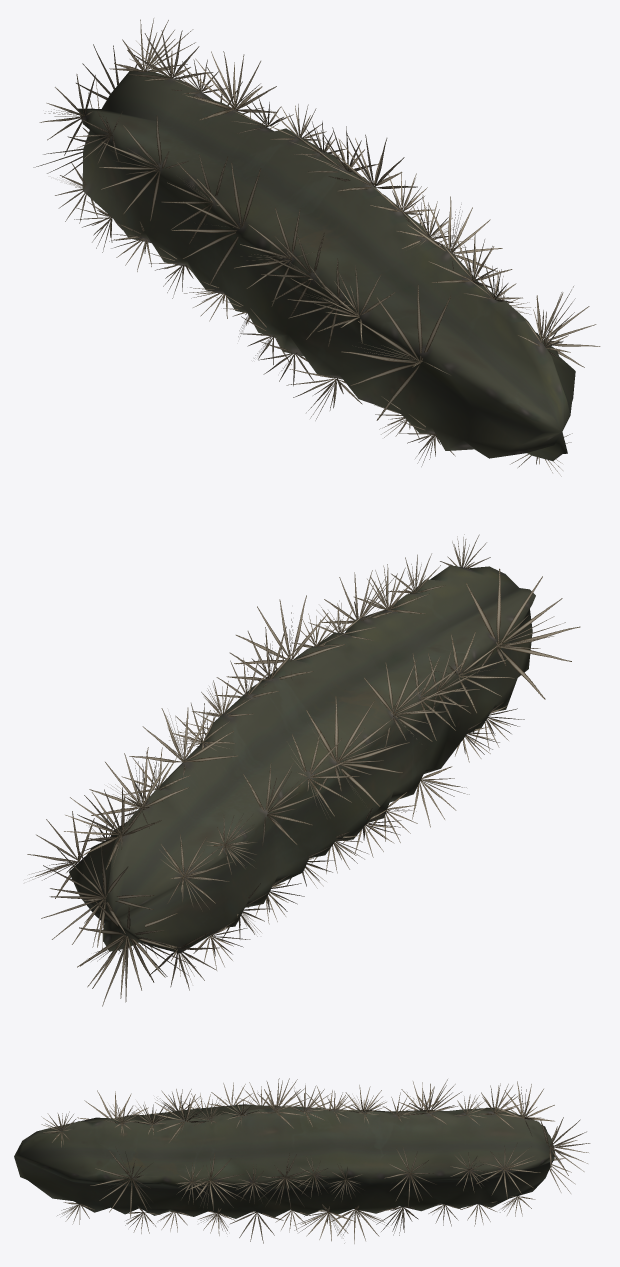
Rendered from DE_Cactus_Part_03.fbx.
The picture shows the model from 3 angles, top to bottom: view 1: azimuth 30°, elevation 25°; view 2: azimuth 150°, elevation 25°; view 3: azimuth 270°, elevation 25°; orthographic projection. The views are drawn at different scales.
Visible parts, largest first — view 1: DE_Cactus_Part_03, DE_Cactus_Needles_Part_03; view 2: DE_Cactus_Part_03, DE_Cactus_Needles_Part_03; view 3: DE_Cactus_Part_03, DE_Cactus_Needles_Part_03.
Boxes of the visible parts, bbox=[...] form: DE_Cactus_Part_03: bbox=[78, 71, 575, 461]; DE_Cactus_Needles_Part_03: bbox=[33, 18, 600, 476]; DE_Cactus_Part_03: bbox=[69, 565, 535, 953]; DE_Cactus_Needles_Part_03: bbox=[27, 534, 580, 1006]; DE_Cactus_Part_03: bbox=[14, 1104, 555, 1218]; DE_Cactus_Needles_Part_03: bbox=[41, 1078, 590, 1243].
Size of the model in its own units: 0.6536 by 0.6457 by 1.98.
